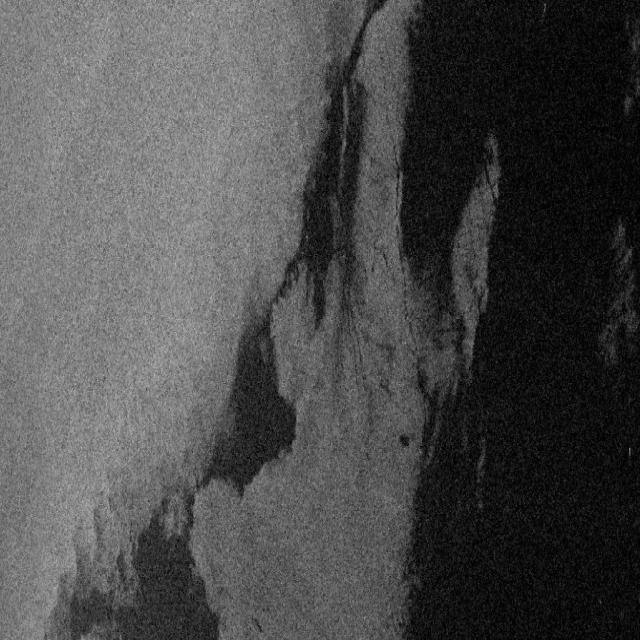look-alike: (418, 320, 636, 630), (487, 13, 634, 294), (297, 0, 376, 335), (62, 477, 225, 637), (398, 5, 479, 293), (197, 315, 303, 491)
